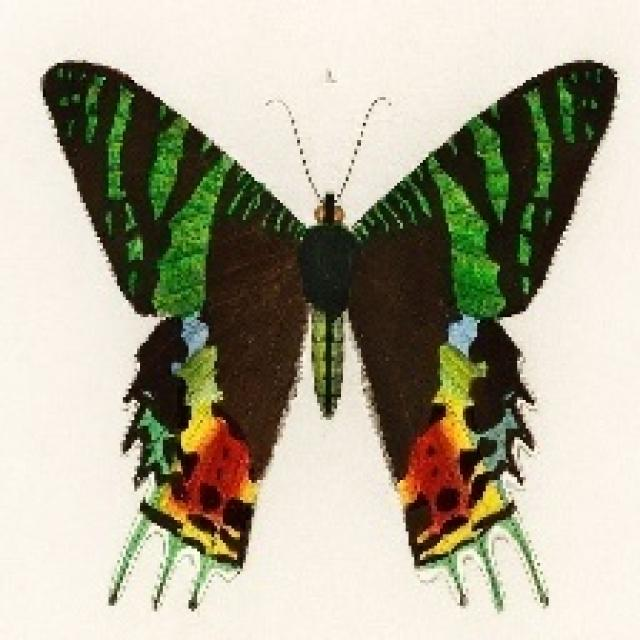butterfly: (37, 51, 617, 612)
